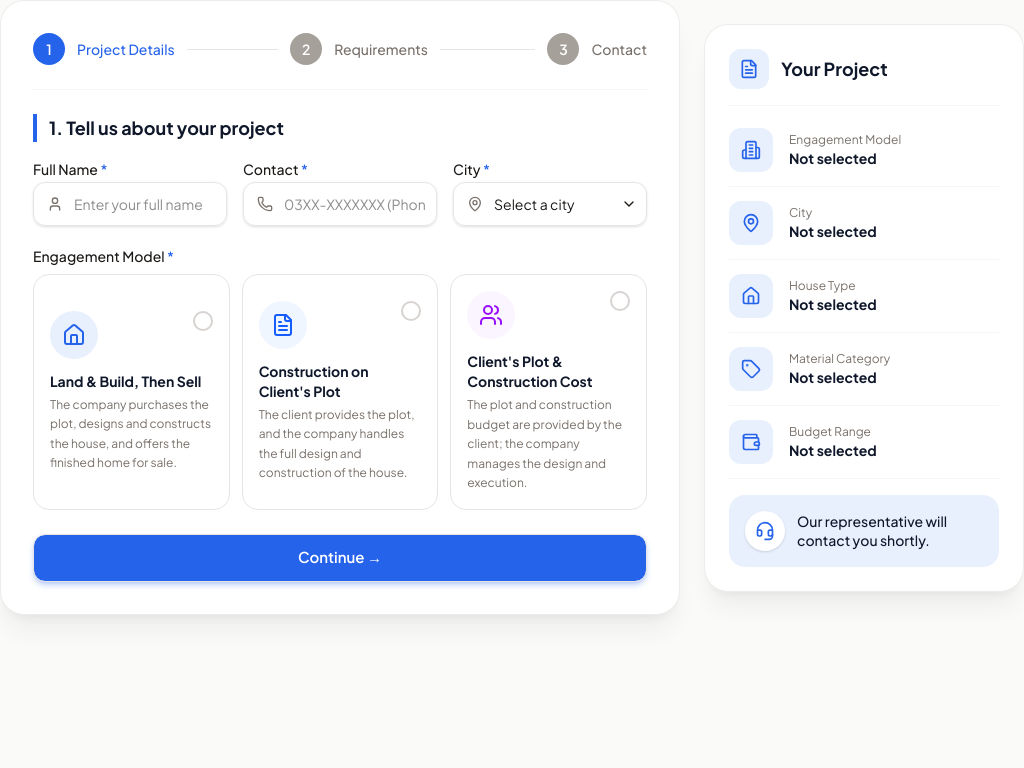
IntakeForm — wizard › does not leave step 1 until its required fields are valid
Click the button "Continue →" at (340, 558), box [33,534,647,582]
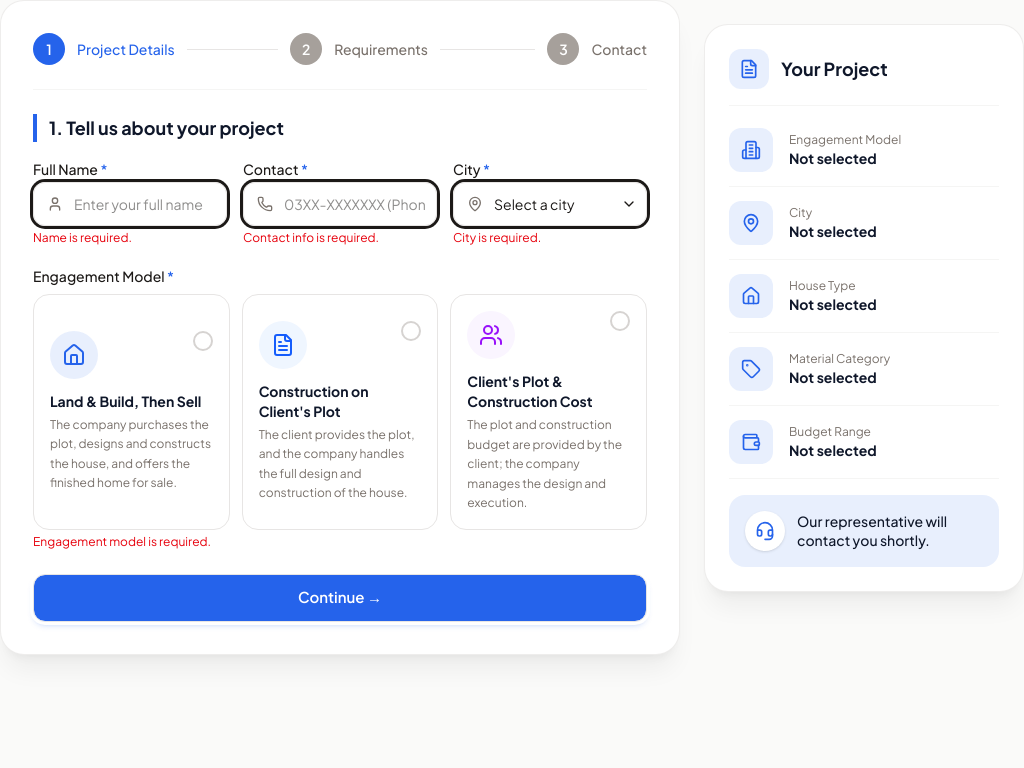
Expected: the text "Name is required." is shown, [33,230,132,245]
Expected: the text "City is required." is shown, [453,230,541,245]
Expected: the text "Engagement model is required." is shown, [33,534,211,548]
